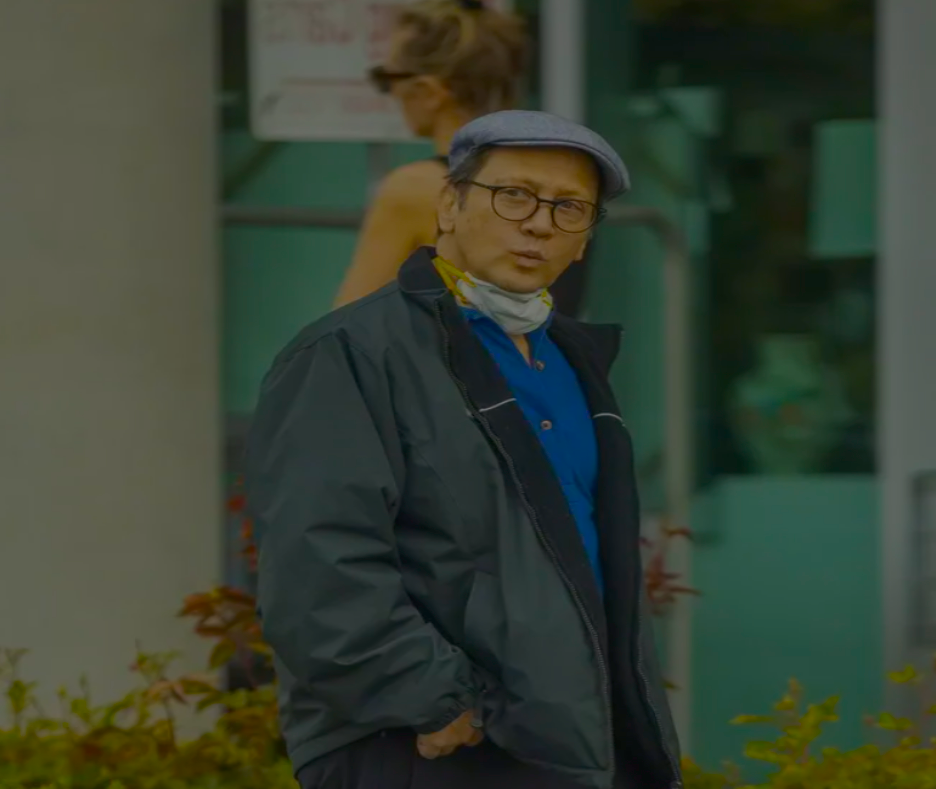mask_weared_incorrect: (414, 104, 632, 339)
